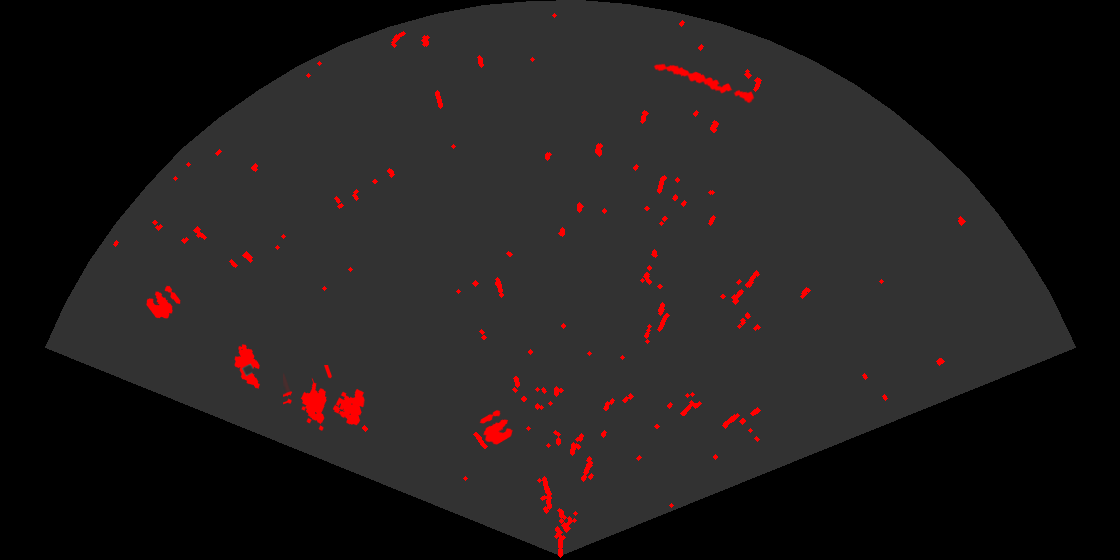AUV: (233, 343, 262, 390)
ball: (478, 408, 514, 446), (145, 284, 182, 320)
cage: (283, 365, 366, 433)
chain: (652, 62, 756, 105)
